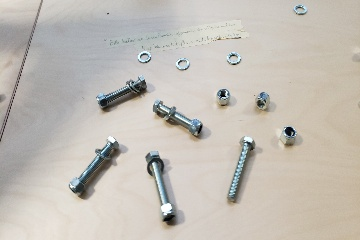Bolt: (225, 137, 253, 199)
FalseAssembly: (66, 136, 123, 196), (143, 150, 180, 225)
FinishedAssembly: (149, 98, 208, 142), (95, 75, 147, 109)
Nut: (279, 125, 299, 146), (213, 89, 235, 107), (255, 91, 271, 110)
Washer: (173, 56, 194, 74), (292, 3, 308, 19), (225, 53, 244, 65), (136, 51, 153, 64)
